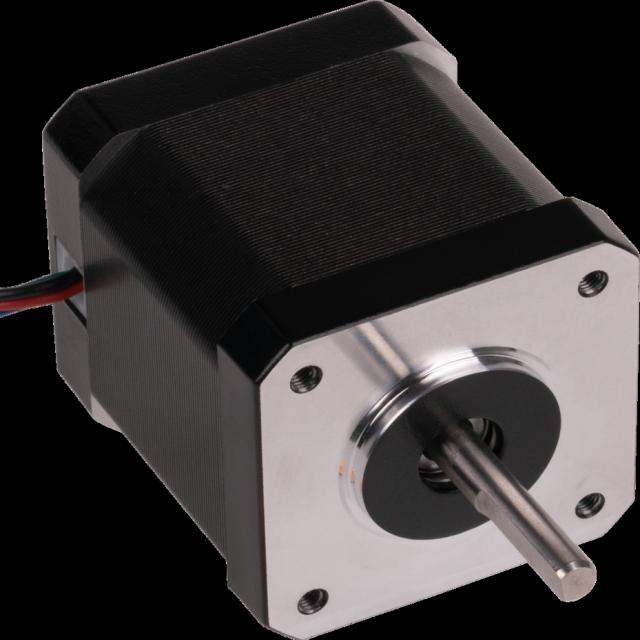motor: (37, 0, 640, 640)
